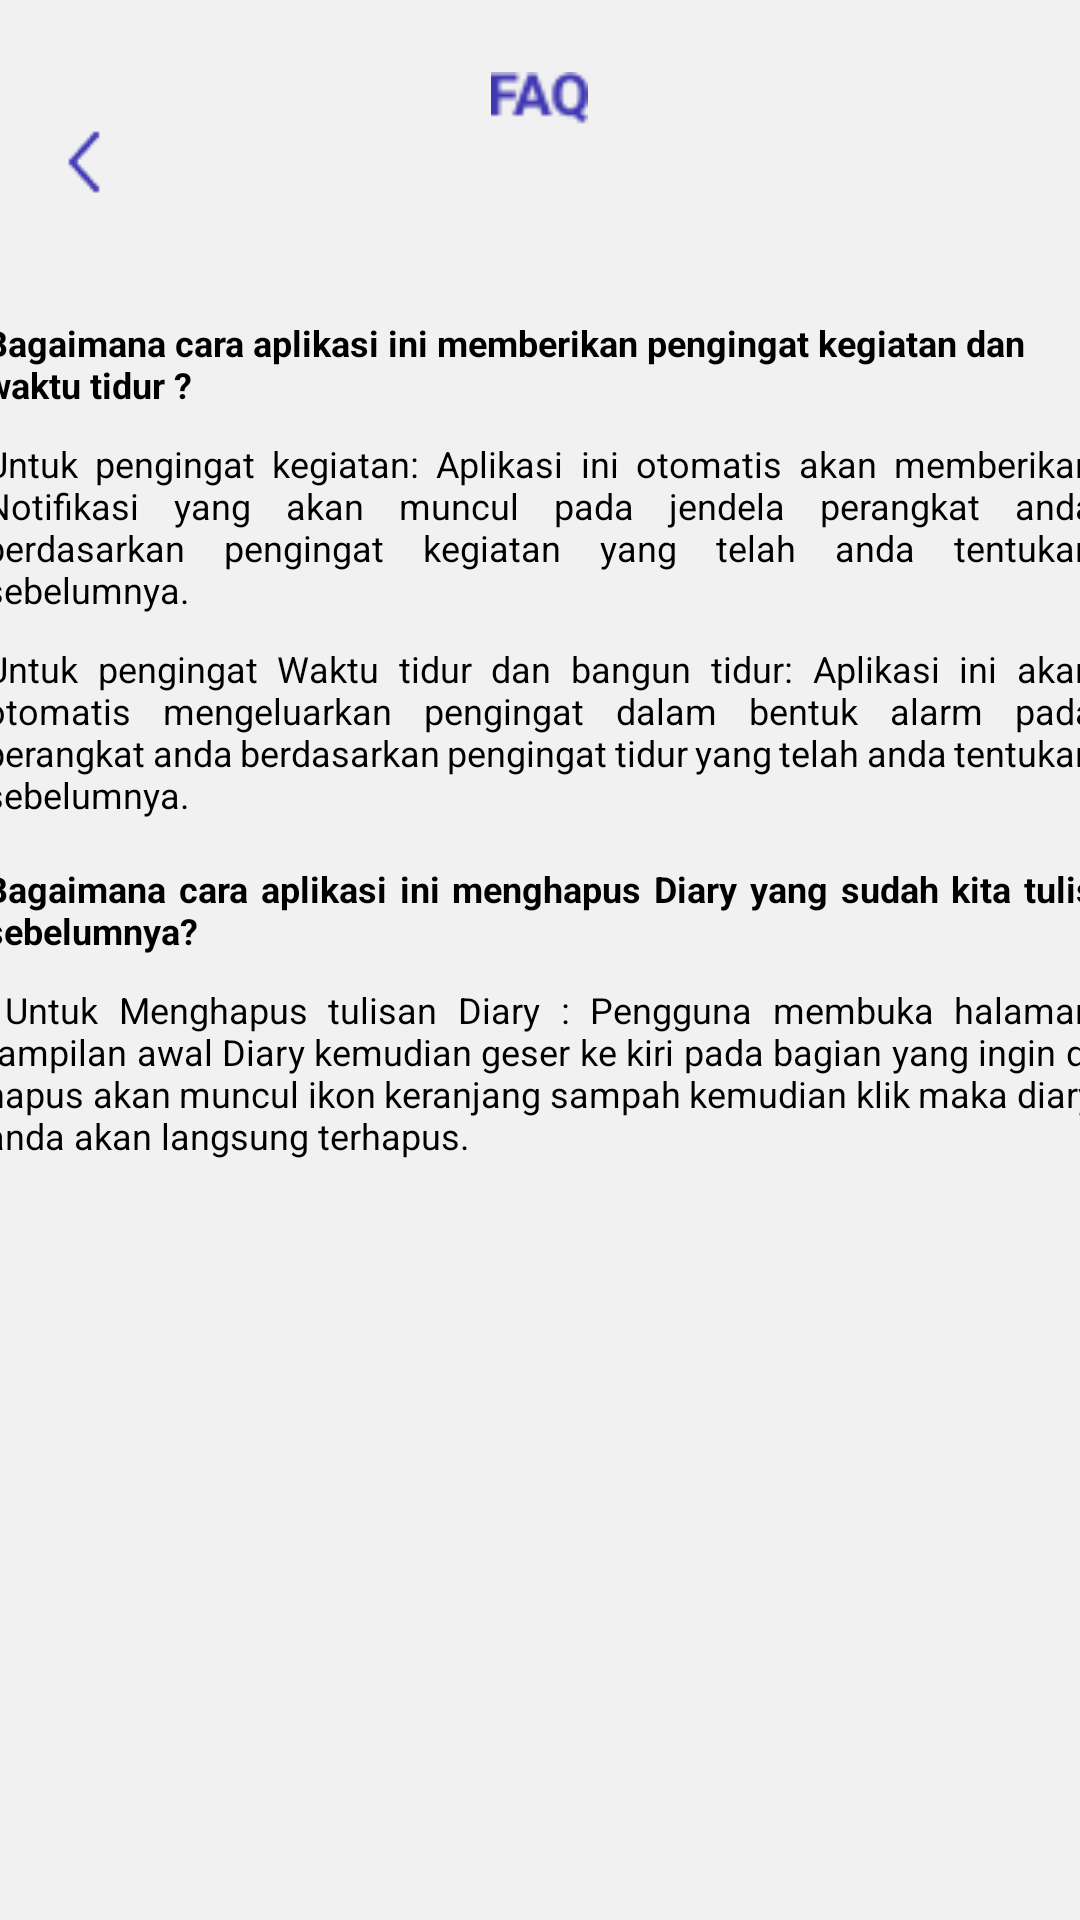

Named icons in this screenshot (1080×1920) and their bounding boxes, (x1, y1, x2, y2):
backbutton: (68, 131, 100, 193)
